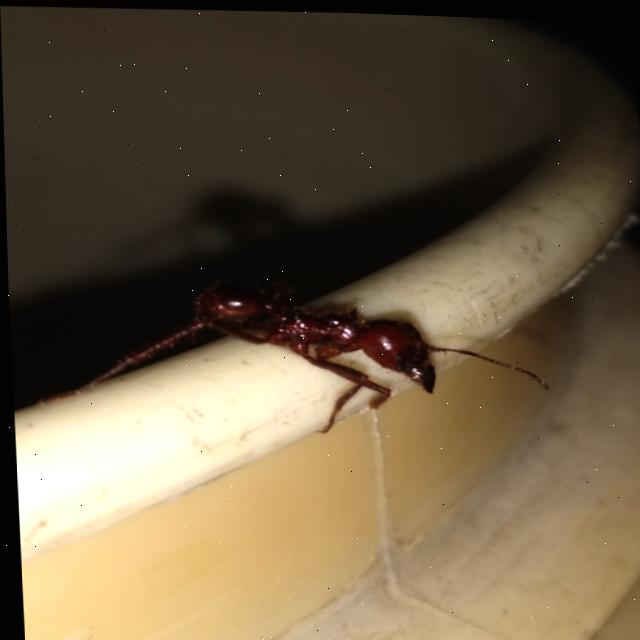Alive-Female-Dealate: (27, 263, 549, 442)
